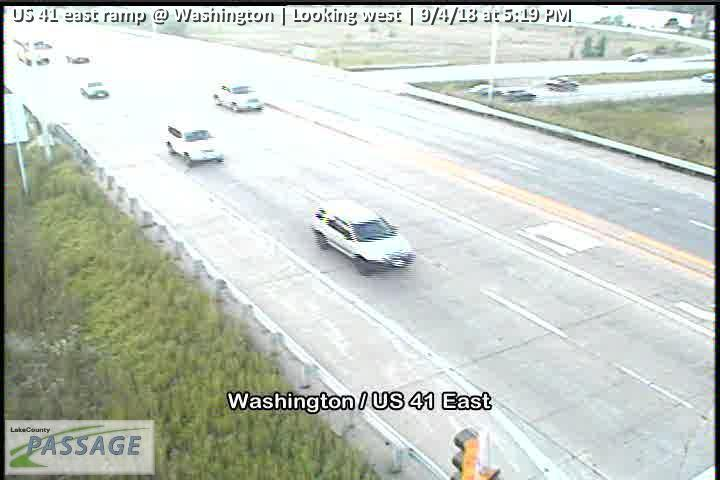SUV: (309, 197, 418, 277), (164, 121, 226, 168), (211, 81, 265, 112), (627, 52, 649, 63)
Sedan: (77, 77, 113, 101), (500, 87, 537, 104), (546, 78, 580, 95), (463, 83, 496, 100), (65, 52, 94, 66)
